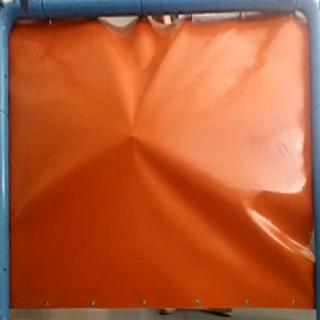Hit-hRxx: (123, 130, 142, 142)
